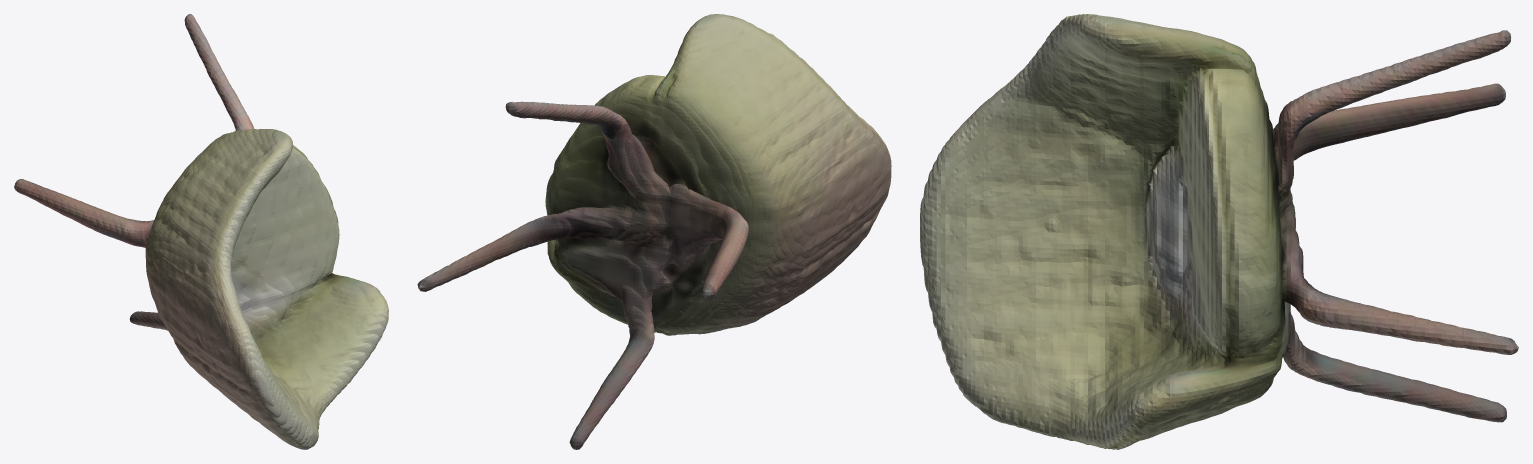
The picture shows the model from 3 angles, left to right: view 1: azimuth 30°, elevation 25°; view 2: azimuth 150°, elevation 25°; view 3: azimuth 270°, elevation 25°; orthographic projection. The views are drawn at different scales.
Visible parts, largest first — view 1: world; view 2: world; view 3: world.
Boxes of the visible parts, x1,y1,x2,y2 form: world: (14,14,388,449); world: (417,14,891,449); world: (920,14,1518,449).
Bounding box in the file's own units: 0.6905 × 0.75 × 0.9456.
